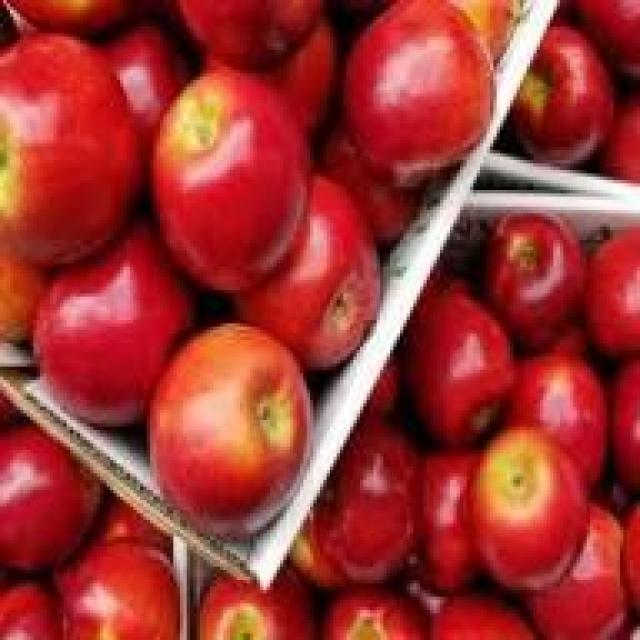apple: (23, 237, 194, 413), (154, 324, 294, 514), (334, 7, 494, 173), (154, 80, 304, 257), (233, 183, 380, 350), (287, 407, 420, 583), (473, 426, 587, 586), (500, 350, 607, 487), (514, 27, 614, 173), (410, 280, 510, 423), (493, 203, 580, 337), (60, 540, 183, 633)
